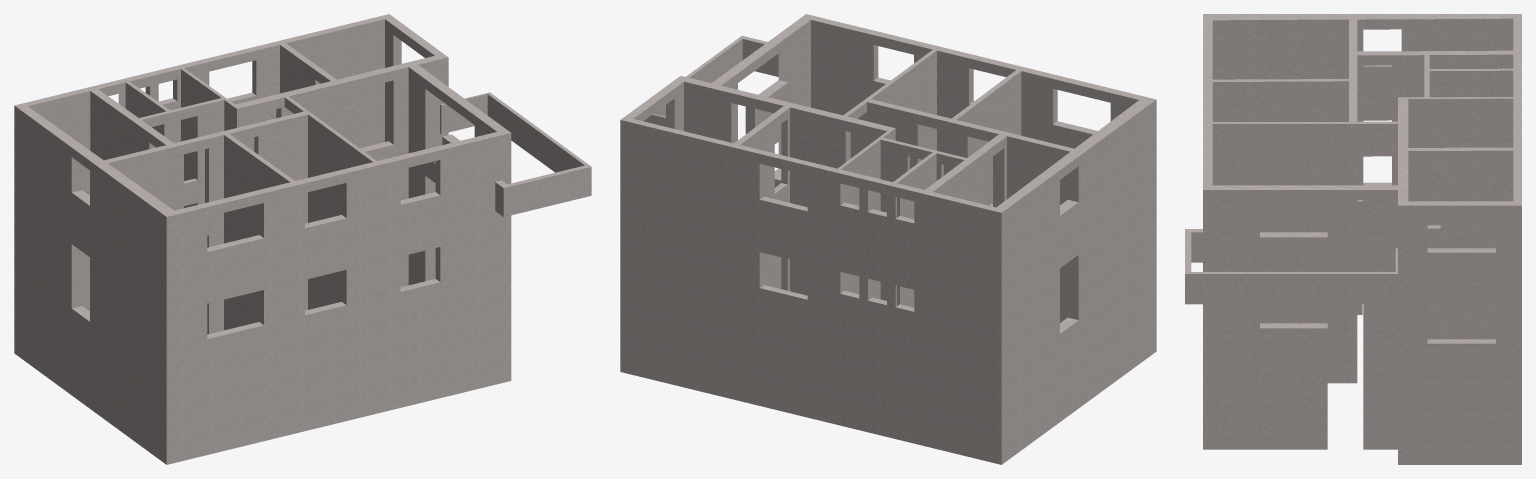
The model's file is house1.obj.
The picture shows the model from 3 angles, left to right: view 1: azimuth 30°, elevation 25°; view 2: azimuth 150°, elevation 25°; view 3: azimuth 270°, elevation 25°; orthographic projection. The views are drawn at different scales.
Visible parts, largest first — view 1: Plane; view 2: Plane; view 3: Plane.
Part boxes in pixels (x1,y1,x2,y2): Plane: [14, 14, 591, 464]; Plane: [620, 14, 1156, 464]; Plane: [1185, 14, 1521, 464].
Size of the model in its own units: 13.53 by 7.7 by 9.06.
Materials: 1 (1 with a texture image).
